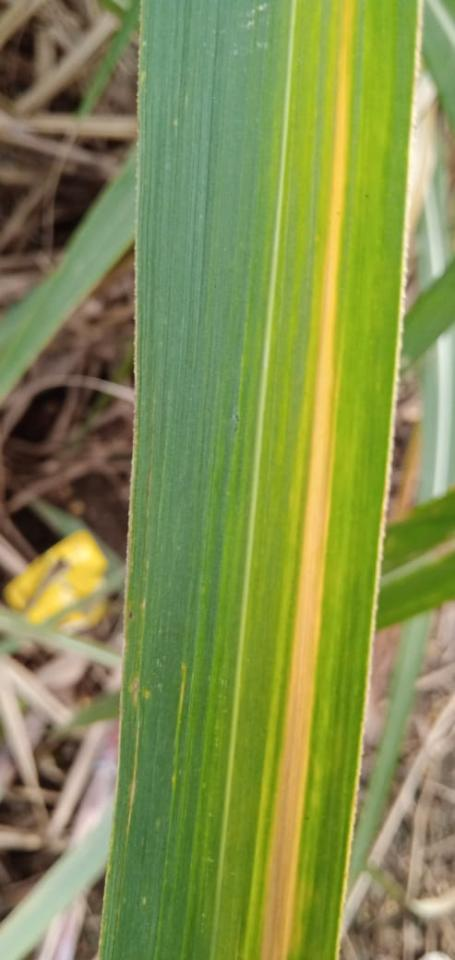Yellow: (260, 2, 354, 959)
